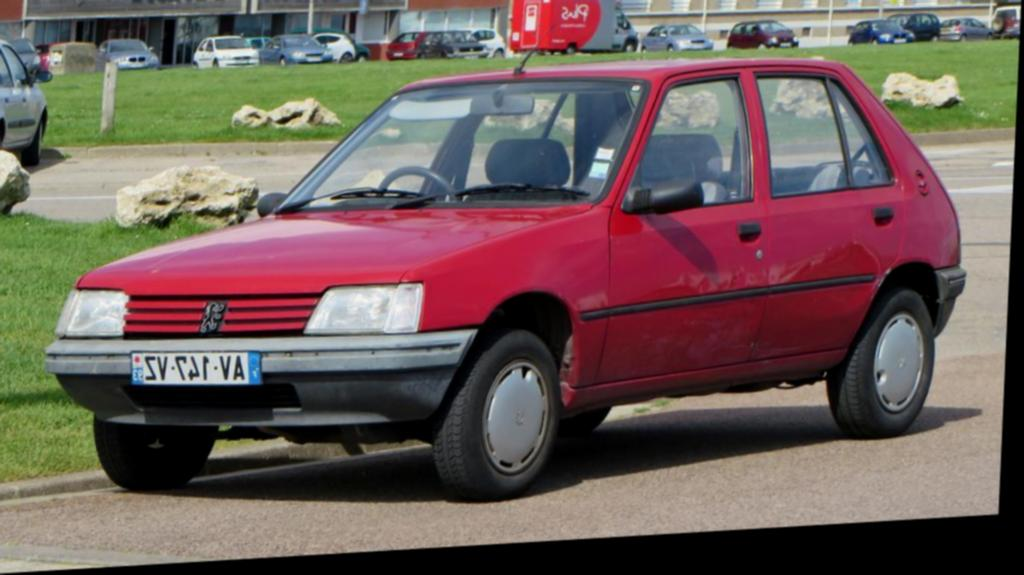License_Plate: (129, 342, 264, 391)
